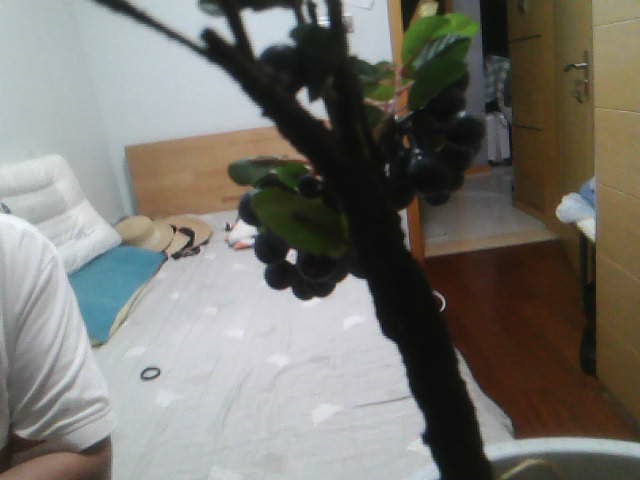blueberry: (411, 106, 493, 152), (259, 38, 289, 108), (415, 159, 461, 202), (342, 140, 382, 188), (421, 164, 461, 205), (240, 180, 272, 230), (283, 257, 314, 300), (293, 34, 318, 83), (293, 205, 325, 240), (256, 230, 290, 262), (314, 240, 339, 276), (262, 167, 289, 192), (258, 262, 286, 283)
